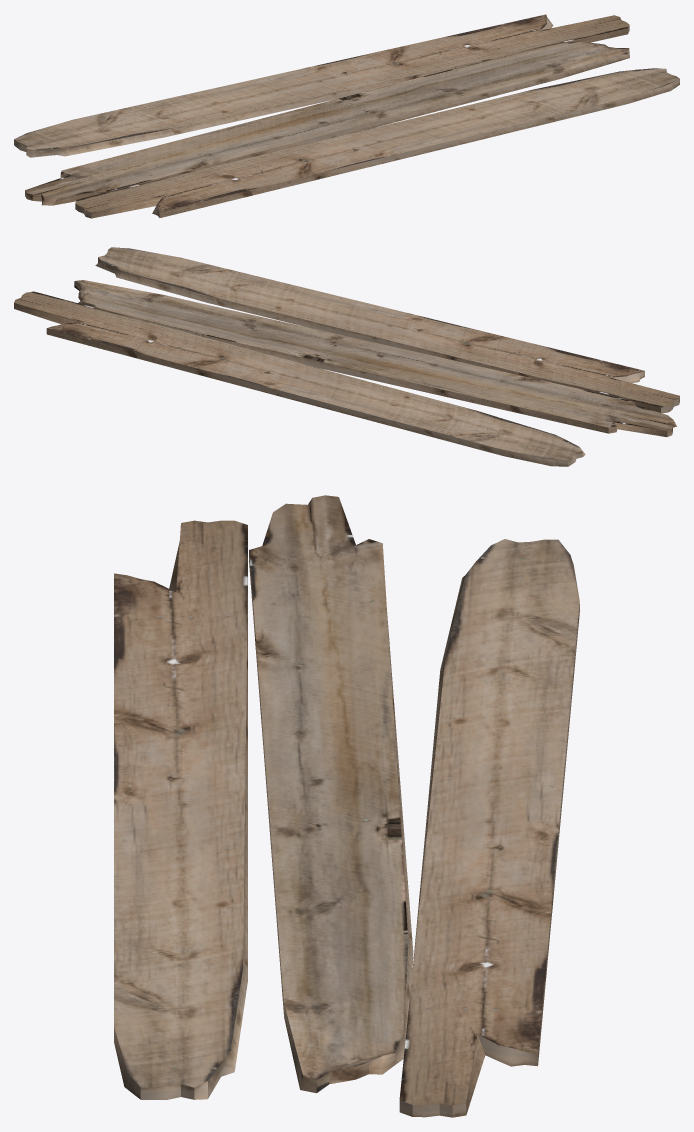
File: Sewer_Wood_Bridge.FBX
3 renders of one model, top to bottom at view 1: azimuth 30°, elevation 25°; view 2: azimuth 150°, elevation 25°; view 3: azimuth 270°, elevation 25°, orthographic. The views are drawn at different scales.
Parts seen in each view (by area): view 1: Wood_Bridge; view 2: Wood_Bridge; view 3: Wood_Bridge.
Part boxes in pixels (<box>): Wood_Bridge: <box>14,14,679,218</box>; Wood_Bridge: <box>14,247,679,466</box>; Wood_Bridge: <box>114,495,579,1117</box>.
Bounding box in the file's own units: 323 × 3 × 104.
Materials: 1 (1 with a texture image).
